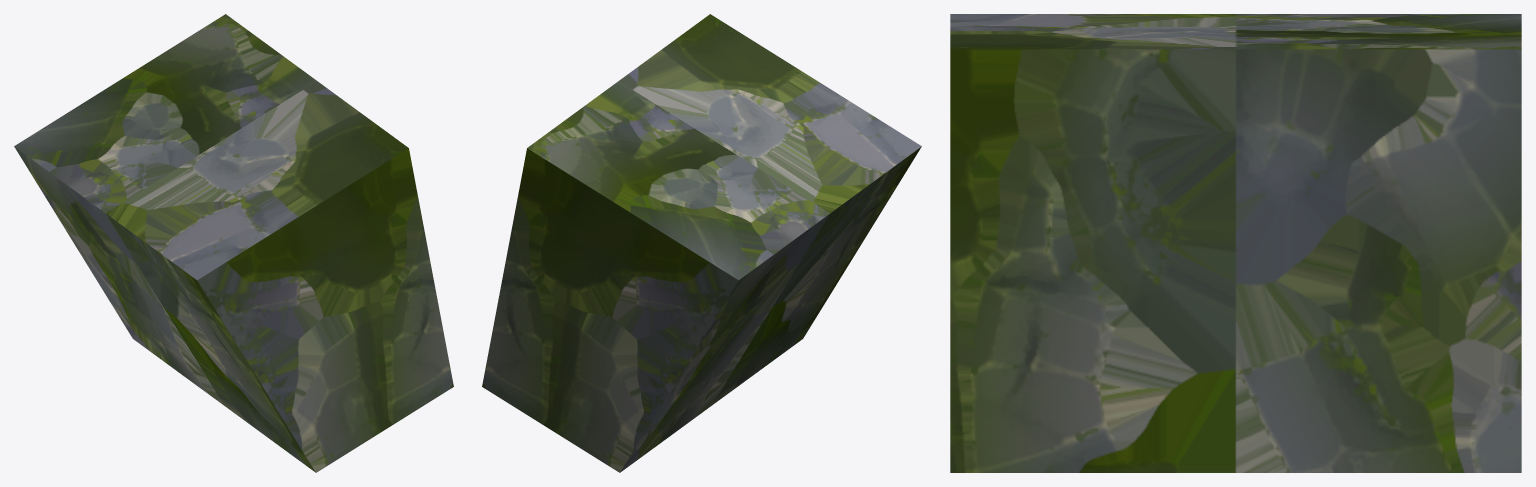
File: Arch_Voussoir_06.glb
3 renders of one model, left to right at view 1: azimuth 30°, elevation 25°; view 2: azimuth 150°, elevation 25°; view 3: azimuth 270°, elevation 25°, orthographic. The views are drawn at different scales.
Parts seen in each view (by area): view 1: Arch_Voussoir_06__Arch_Voussoir_06; view 2: Arch_Voussoir_06__Arch_Voussoir_06; view 3: Arch_Voussoir_06__Arch_Voussoir_06.
Part boxes in pixels (box(x1,y1,x2,y2)): Arch_Voussoir_06__Arch_Voussoir_06: box(14, 14, 453, 472); Arch_Voussoir_06__Arch_Voussoir_06: box(482, 14, 921, 472); Arch_Voussoir_06__Arch_Voussoir_06: box(950, 14, 1521, 472).
Size of the model in its own units: 0.7929 by 0.892 by 0.98.
1 material, 1 textured.
